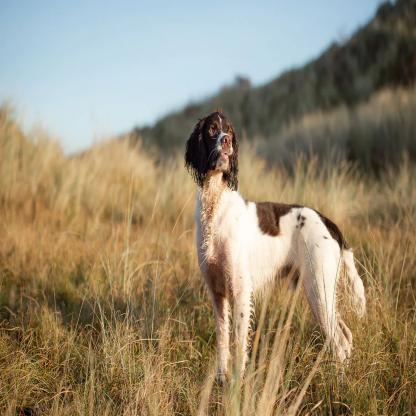English Springer Spaniel: (177, 107, 363, 416)
